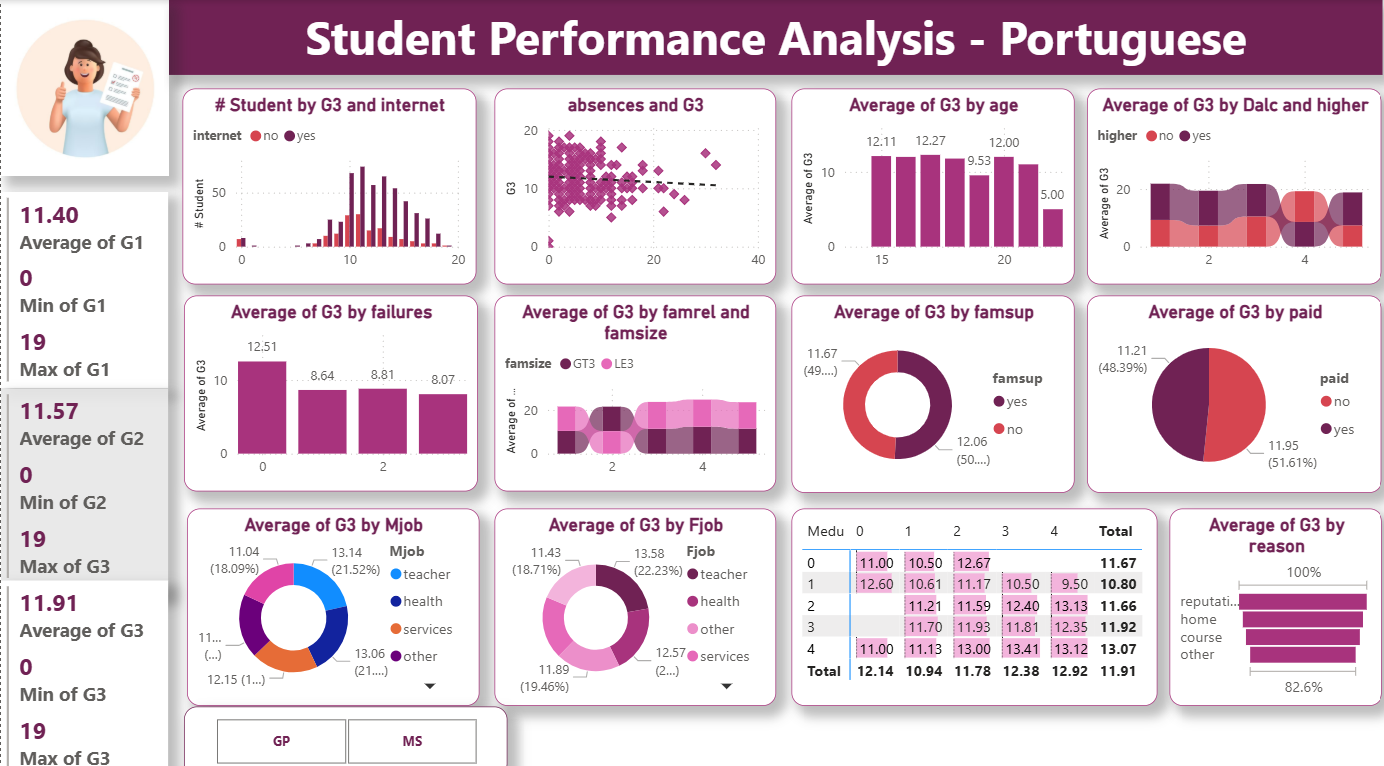

What the dashboard file says about the page in this screenshot:
{"tool":"powerbi","page":{"name":"Final grade Dashboard","canvas":[1280,720],"ordinal":0},"visuals":[{"type":"textbox","box":[155.4,0,1123.7,69.6],"z":0},{"type":"image","box":[0,0,155.4,163.5],"z":1000},{"type":"multiRowCard","fields":{"Values":["Avg(student por.G1)","Min(student por.G1)","Max(student por.G1)1"]},"box":[0,177.6,155,181.4],"z":2000},{"type":"multiRowCard","fields":{"Values":["Avg(student por.G2)","Min(student por.G2)","Max(student por.G3)"]},"box":[0,359.1,155,190.9],"z":3000},{"type":"multiRowCard","fields":{"Values":["Avg(student por.G3)","Min(student por.G3)","Max(student por.G3)"]},"box":[0,536.7,155,183.3],"z":4000},{"type":"clusteredColumnChart","fields":{"Category":["student por.G3"],"Y":["student por.# Student"],"Series":["student por.internet"]},"box":[168.4,82.6,272,181.4],"z":5000},{"type":"scatterChart","fields":{"X":["student por.absences"],"Y":["student por.G3"]},"box":[456.6,82.6,260.7,181.4],"z":6000},{"type":"clusteredColumnChart","fields":{"Category":["student por.age"],"Y":["Avg(student por.G3)"]},"box":[731.9,82.6,262.3,181.4],"z":7000},{"type":"ribbonChart","fields":{"Category":["student por.Dalc"],"Y":["Avg(student por.G3)"],"Series":["student por.higher"]},"box":[1005.5,82.6,273.6,181.4],"z":8000},{"type":"clusteredColumnChart","fields":{"Y":["Avg(student por.G3)"],"Category":["student por.failures"]},"box":[170,273.6,272,181.4],"z":9000},{"type":"ribbonChart","fields":{"Category":["student por.famrel"],"Y":["Avg(student por.G3)"],"Series":["student por.famsize"]},"box":[456.6,273.6,260.7,181.4],"z":10000},{"type":"donutChart","fields":{"Category":["student por.famsup"],"Y":["Avg(student por.G3)"]},"box":[731.9,273.6,262.3,183],"z":11000},{"type":"pieChart","fields":{"Y":["Avg(student por.G3)"],"Category":["student por.paid"]},"box":[1005.5,273.6,273.6,183],"z":12000},{"type":"donutChart","fields":{"Y":["Avg(student por.G3)"],"Category":["student por.Mjob"]},"box":[171.6,471.2,270.4,183],"z":13000},{"type":"donutChart","fields":{"Y":["Avg(student por.G3)"],"Category":["student por.Fjob"]},"box":[456.6,471.2,260.7,183],"z":14000},{"type":"pivotTable","fields":{"Rows":["student por.Medu"],"Columns":["student por.Fedu"],"Values":["Avg(student por.G3)"]},"box":[731.9,471.2,338.4,183],"z":15000},{"type":"funnel","fields":{"Category":["student por.reason"],"Y":["Avg(student por.G3)"]},"box":[1081.6,471.2,197.5,183],"z":16000},{"type":"slicer","fields":{"Values":["student por.school"]},"box":[170,654.2,299.6,64.8],"z":17000}]}

Visuals, with their boxes in screenshot pixels (x1, y1, x2, y2), scaled from the page's 1280x720 canvas onto the 1384x766 screenshot:
textbox: bbox(168, 0, 1383, 74)
image: bbox(0, 0, 168, 174)
multiRowCard - Avg(student por.G1) x Min(student por.G1): bbox(0, 189, 168, 382)
multiRowCard - Avg(student por.G2) x Min(student por.G2): bbox(0, 382, 168, 585)
multiRowCard - Avg(student por.G3) x Min(student por.G3): bbox(0, 571, 168, 765)
clusteredColumnChart - student por.G3 x student por.# Student: bbox(182, 88, 476, 281)
scatterChart - student por.absences x student por.G3: bbox(494, 88, 776, 281)
clusteredColumnChart - student por.age x Avg(student por.G3): bbox(791, 88, 1075, 281)
ribbonChart - student por.Dalc x Avg(student por.G3): bbox(1087, 88, 1383, 281)
clusteredColumnChart - Avg(student por.G3) x student por.failures: bbox(184, 291, 478, 484)
ribbonChart - student por.famrel x Avg(student por.G3): bbox(494, 291, 776, 484)
donutChart - student por.famsup x Avg(student por.G3): bbox(791, 291, 1075, 486)
pieChart - Avg(student por.G3) x student por.paid: bbox(1087, 291, 1383, 486)
donutChart - Avg(student por.G3) x student por.Mjob: bbox(186, 501, 478, 696)
donutChart - Avg(student por.G3) x student por.Fjob: bbox(494, 501, 776, 696)
pivotTable - student por.Medu x student por.Fedu: bbox(791, 501, 1157, 696)
funnel - student por.reason x Avg(student por.G3): bbox(1169, 501, 1383, 696)
slicer - student por.school: bbox(184, 696, 508, 765)
